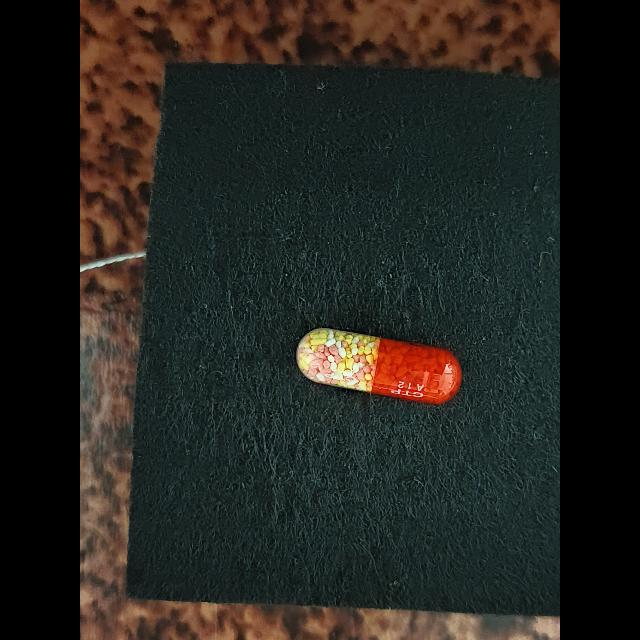Intact Capsule: (296, 328, 462, 405)
